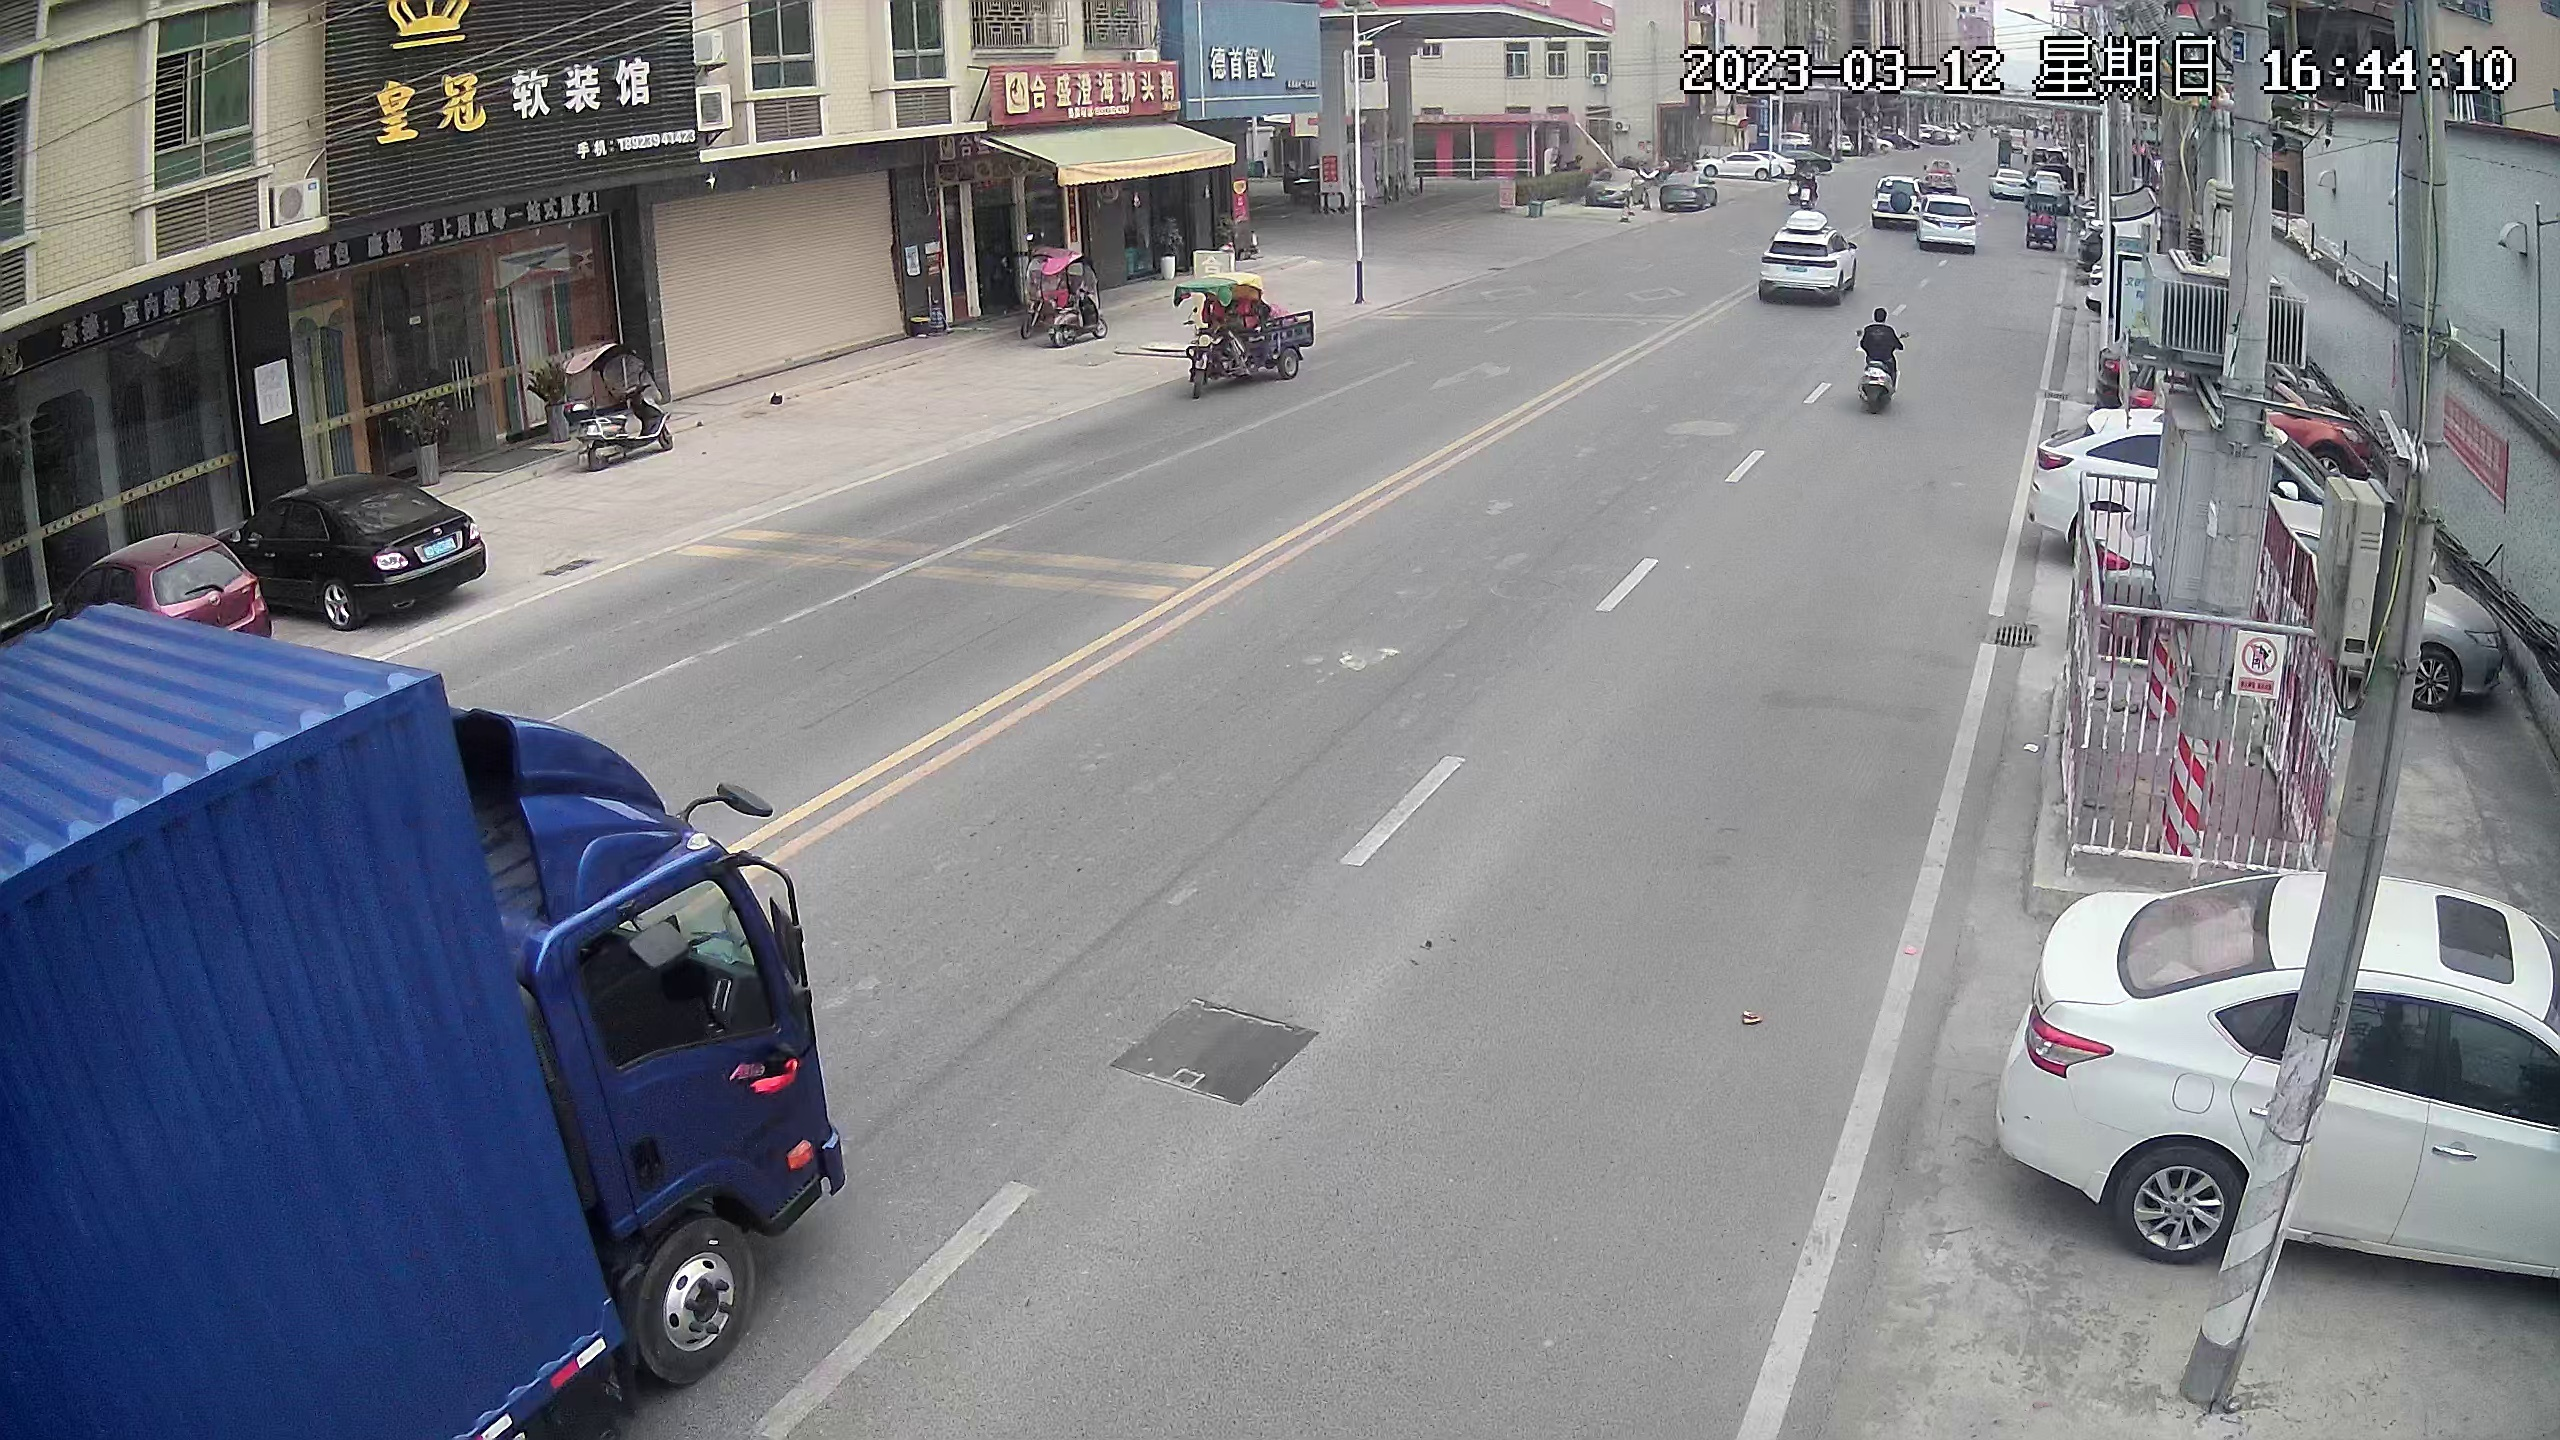motorcycle: (557, 353, 672, 469), (1848, 309, 1911, 418), (1044, 243, 1104, 353), (1799, 164, 1818, 215)
sedan: (2027, 874, 2560, 1306), (2112, 519, 2495, 709), (244, 491, 489, 612), (2045, 422, 2335, 522), (2106, 359, 2340, 427), (86, 547, 253, 631), (1918, 195, 1982, 253), (2078, 213, 2138, 264), (1593, 164, 1640, 216), (1663, 169, 1714, 215), (1714, 148, 1786, 179), (1992, 162, 2027, 199), (1929, 158, 1957, 192)
suv: (1769, 213, 1850, 308), (1874, 174, 1924, 229)
tricycle: (1169, 278, 1308, 385), (2020, 192, 2057, 248)
truck: (16, 608, 839, 1440)
